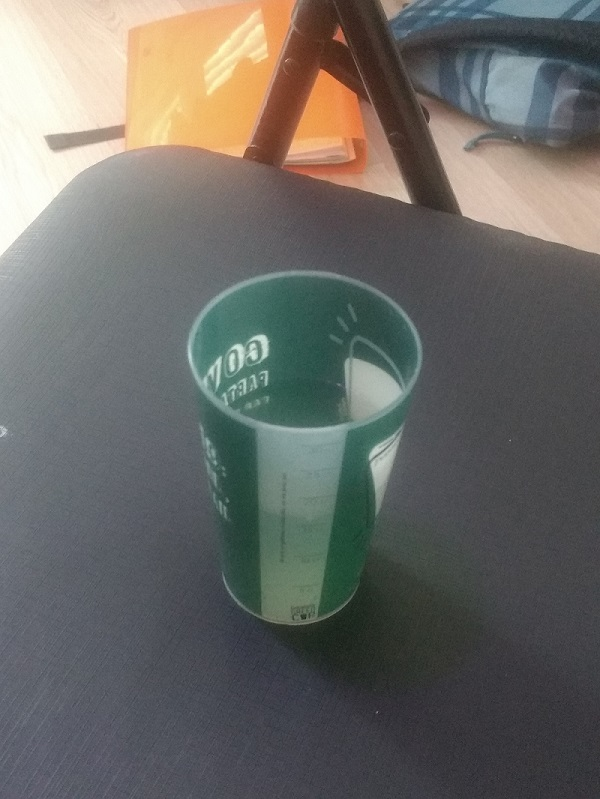ecocup: (188, 270, 424, 627)
